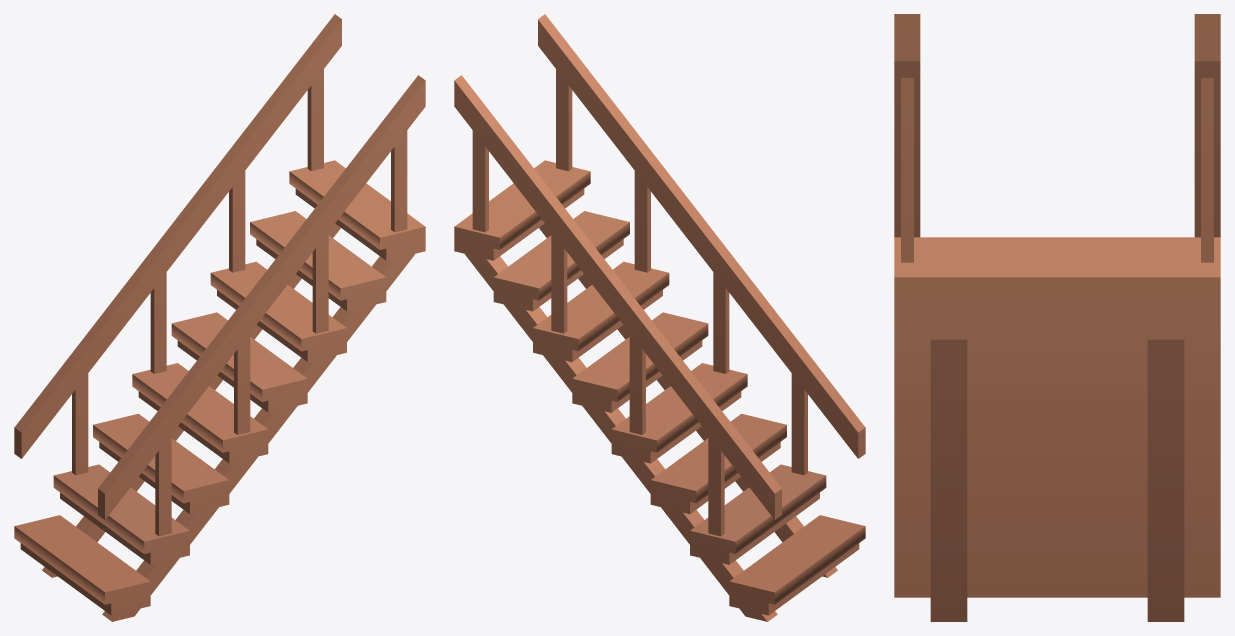
Rendered from stairs-wood-handrail.glb.
3 views of the same model, side by side, from view 1: azimuth 30°, elevation 25°; view 2: azimuth 150°, elevation 25°; view 3: azimuth 270°, elevation 25° (orthographic). The views are drawn at different scales.
Visible parts, largest first — view 1: stairs-wood-handrail; view 2: stairs-wood-handrail; view 3: stairs-wood-handrail.
Boxes of the visible parts, box(x1,y1,x2,y2) form: stairs-wood-handrail: box(14, 14, 425, 621); stairs-wood-handrail: box(454, 14, 865, 621); stairs-wood-handrail: box(894, 14, 1220, 621).
Size of the model in its own units: 1.02 by 1.45 by 0.5.
1 material, 1 textured.
